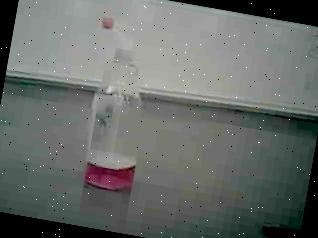hazard: (66, 9, 174, 204)
